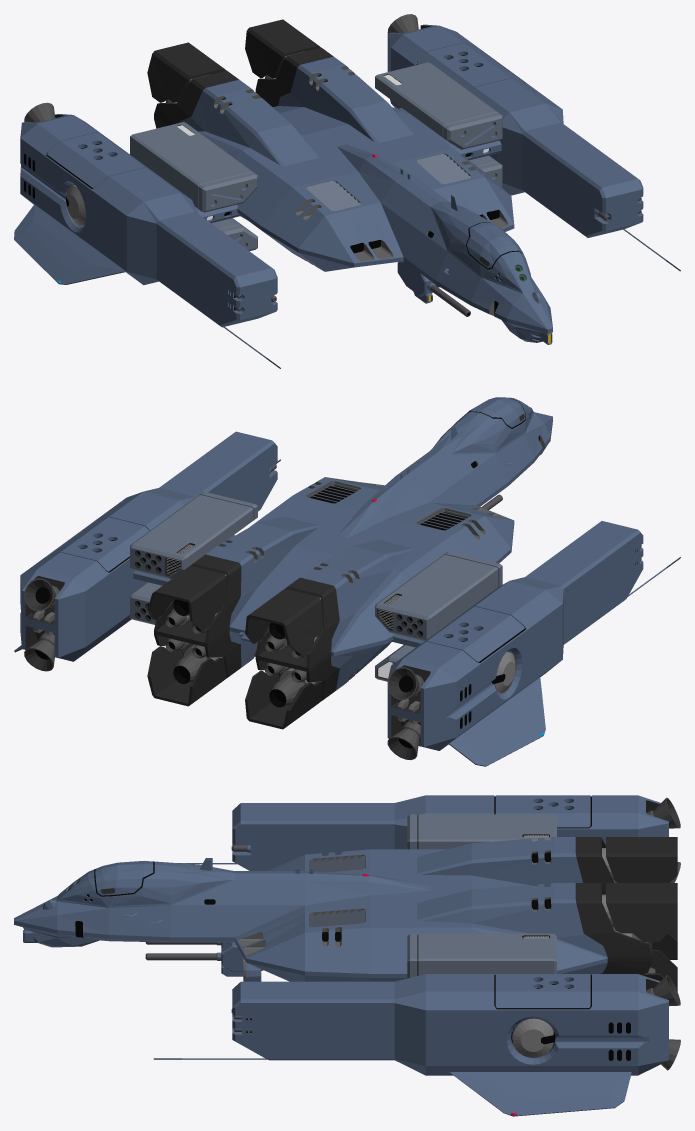
File: Fighter1.obj
3 views of the same model, one above another, from view 1: azimuth 30°, elevation 25°; view 2: azimuth 150°, elevation 25°; view 3: azimuth 270°, elevation 25° (orthographic).
Parts seen in each view (by area): view 1: Fighter1; view 2: Fighter1; view 3: Fighter1.
Part boxes in pixels (x1,y1,x2,y2): Fighter1: (14, 14, 680, 368); Fighter1: (14, 397, 680, 766); Fighter1: (14, 795, 680, 1116).
Size of the model in its own units: 1.54 by 0.4255 by 1.83.
